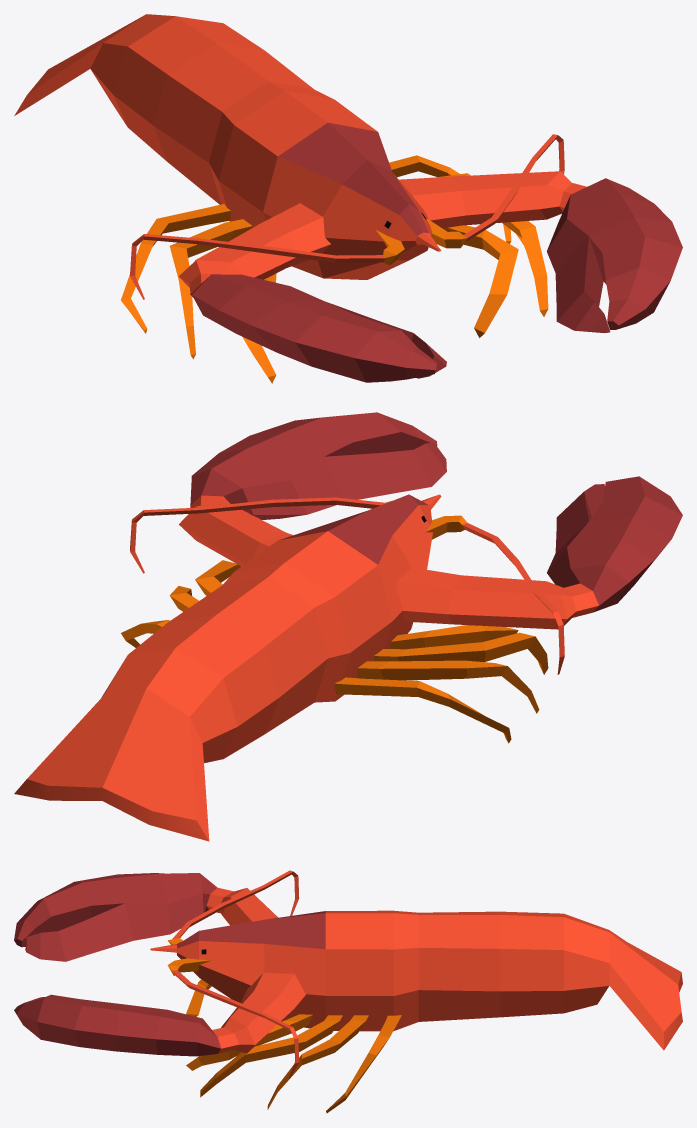
File: Mesh_Lobster.obj
3 views of the same model, one above another, from view 1: azimuth 30°, elevation 25°; view 2: azimuth 150°, elevation 25°; view 3: azimuth 270°, elevation 25° (orthographic). The views are drawn at different scales.
Visible parts, largest first — view 1: Geo_Lobster; view 2: Geo_Lobster; view 3: Geo_Lobster.
Boxes of the visible parts, <box> form: Geo_Lobster: <box>14,14,682,383</box>; Geo_Lobster: <box>14,412,682,841</box>; Geo_Lobster: <box>14,870,682,1113</box>.
Bounding box in the file's own units: 51.23 × 18.97 × 86.81.
Materials: 1 (1 with a texture image).
